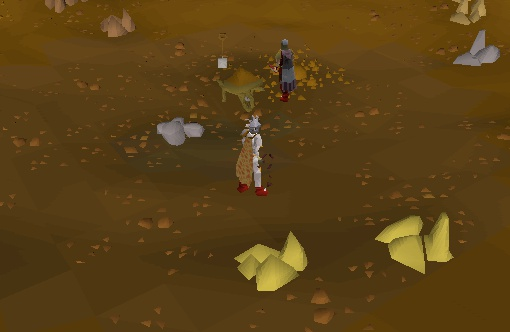copper: (94, 4, 147, 41)
gold: (367, 204, 475, 284), (224, 224, 319, 300)
tin: (444, 22, 509, 79)
